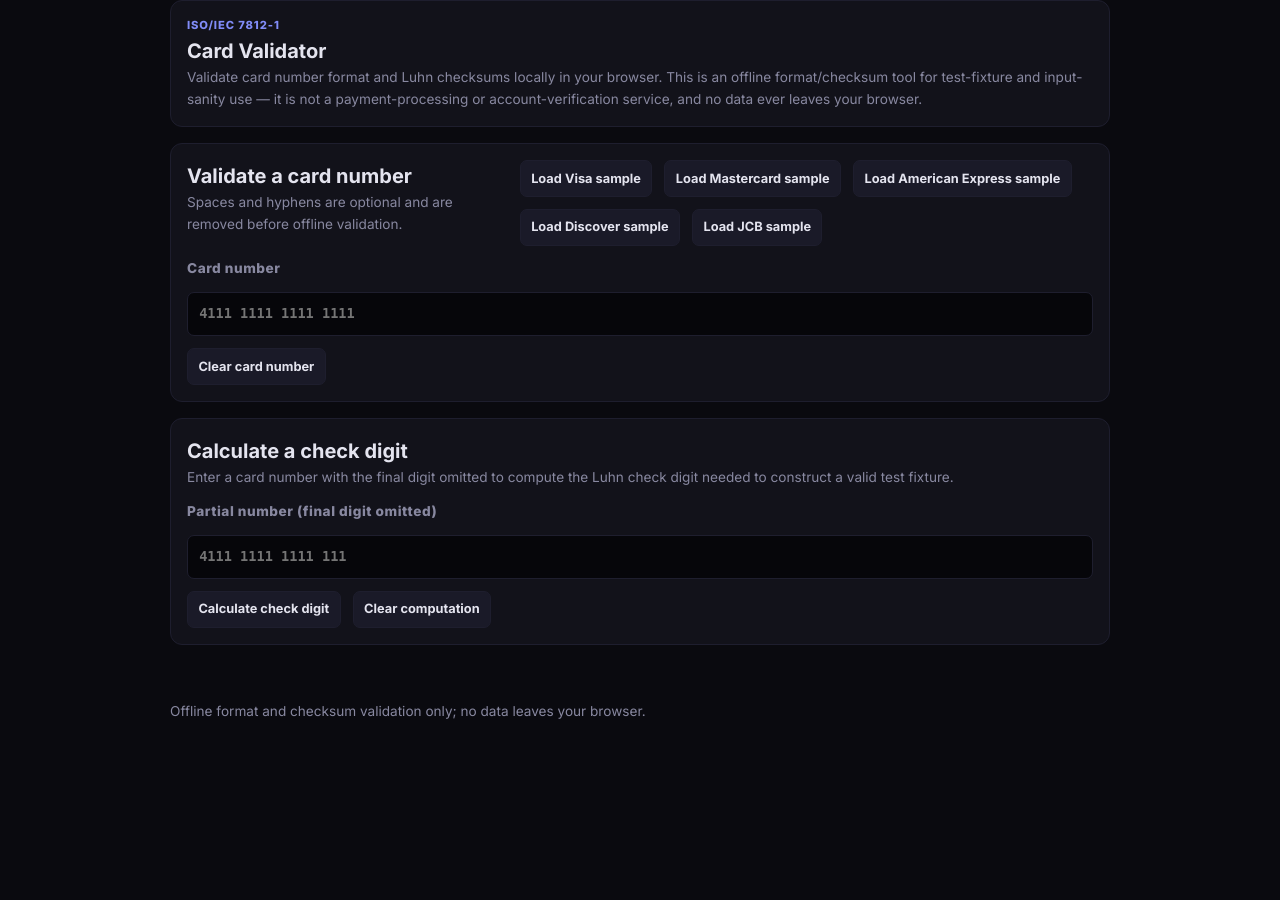
Test: CardTool › loads a Mastercard sample and detects the correct network
This screenshot has width=1280, height=900.
Step 1. Click the button "Load Mastercard sample" → coordinates (753, 179), box x1=664 y1=160 x2=841 y2=197
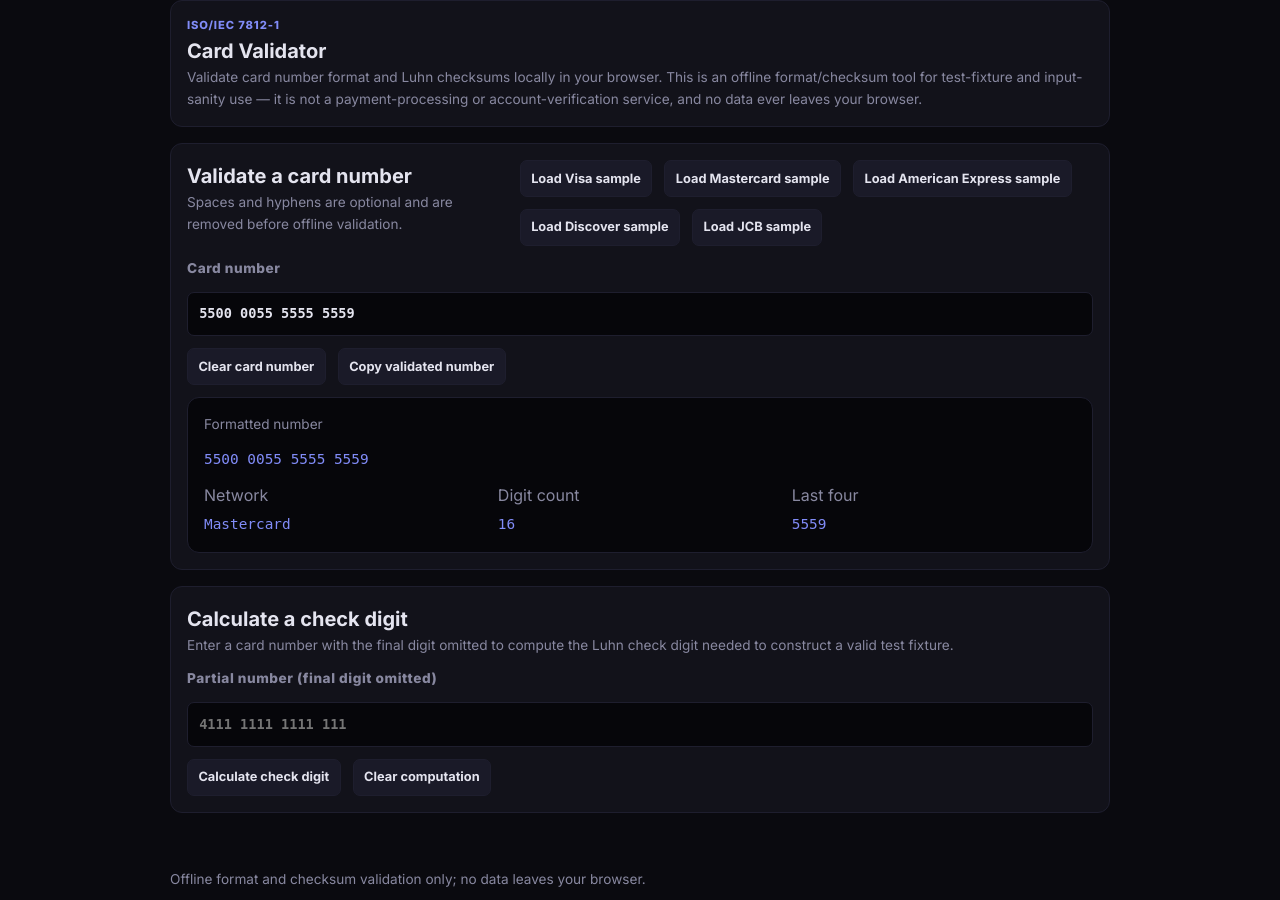
Expected: the text "Mastercard" is shown, x1=204 y1=516 x2=291 y2=532
